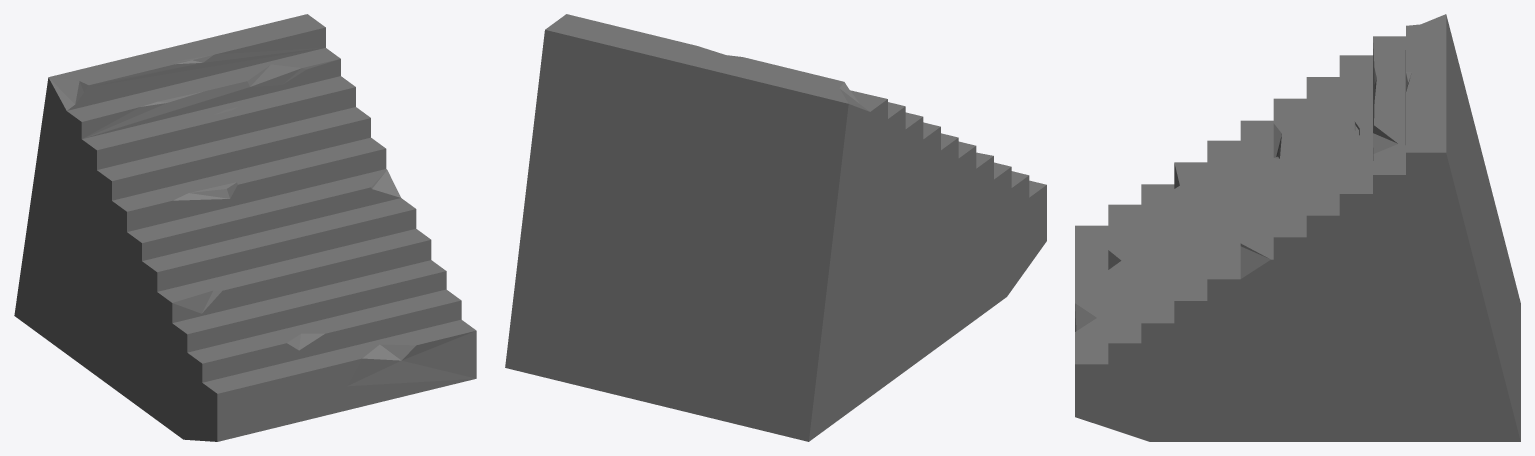
The picture shows the model from 3 angles, left to right: view 1: azimuth 30°, elevation 25°; view 2: azimuth 150°, elevation 25°; view 3: azimuth 270°, elevation 25°; orthographic projection. The views are drawn at different scales.
Visible parts, largest first — view 1: shiti1; view 2: shiti1; view 3: shiti1.
Boxes of the visible parts, x1=… form: shiti1: x1=14, y1=14, x2=476, y2=441; shiti1: x1=505, y1=14, x2=1046, y2=441; shiti1: x1=1075, y1=14, x2=1520, y2=441.
Size of the model in its own units: 350 by 340 by 475.
